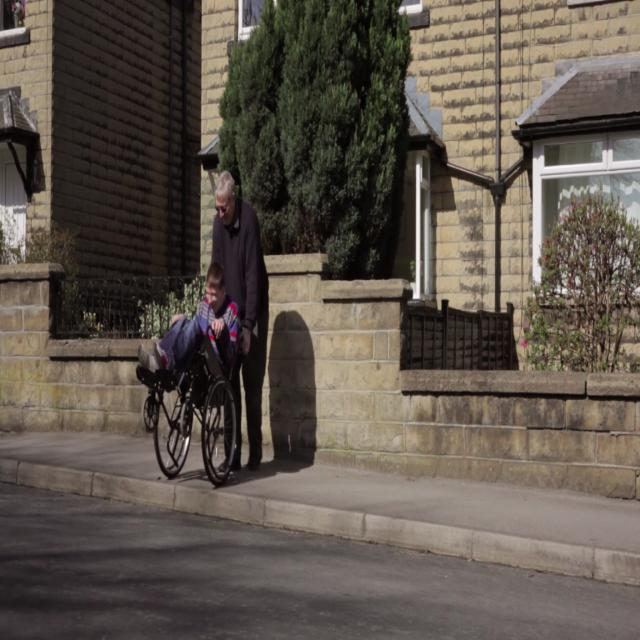wheelchairs: (138, 310, 242, 488)
